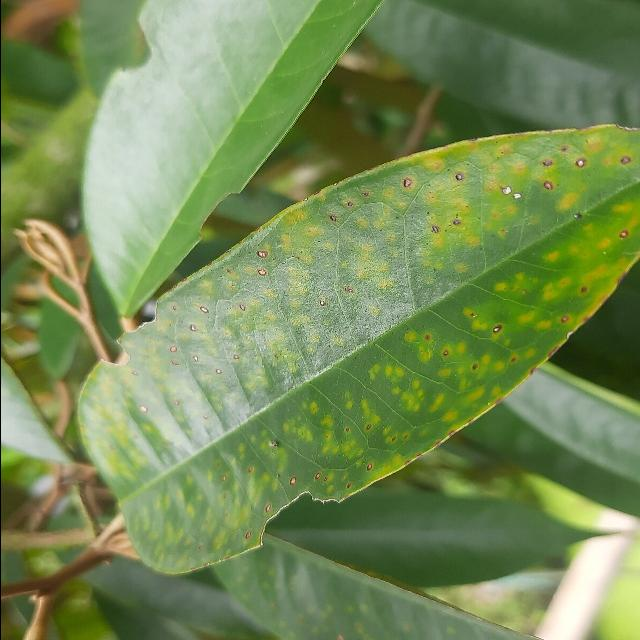Leaf Spot: (61, 101, 640, 581)
